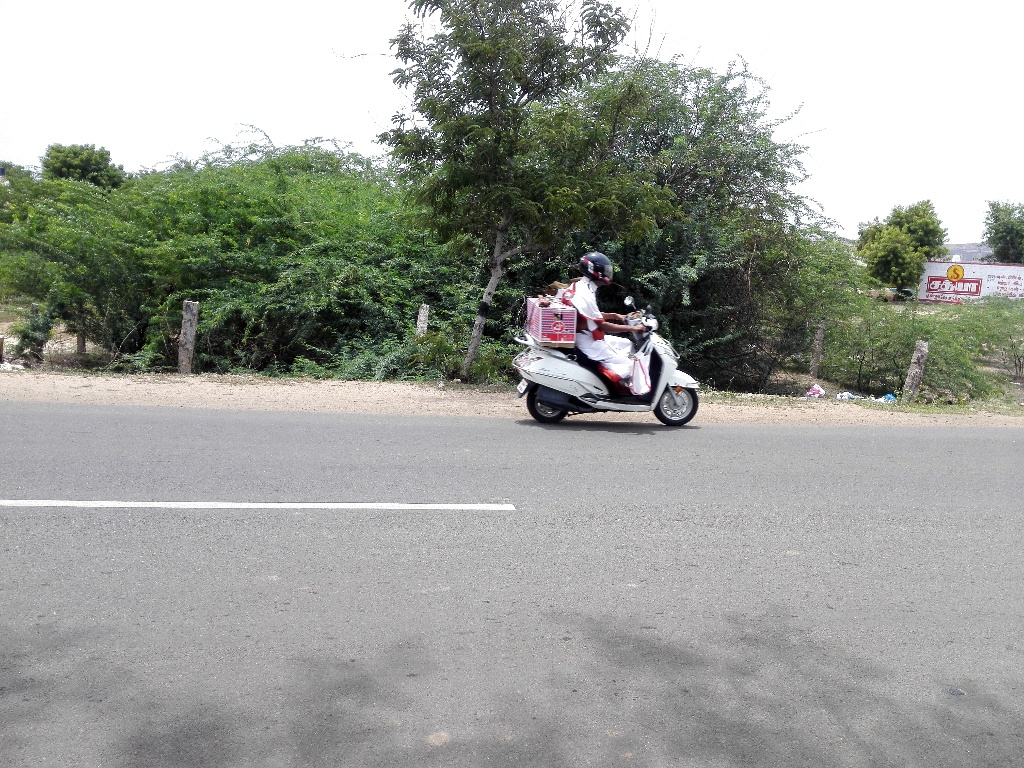biker: (503, 216, 713, 442)
helmet: (572, 241, 622, 295)
